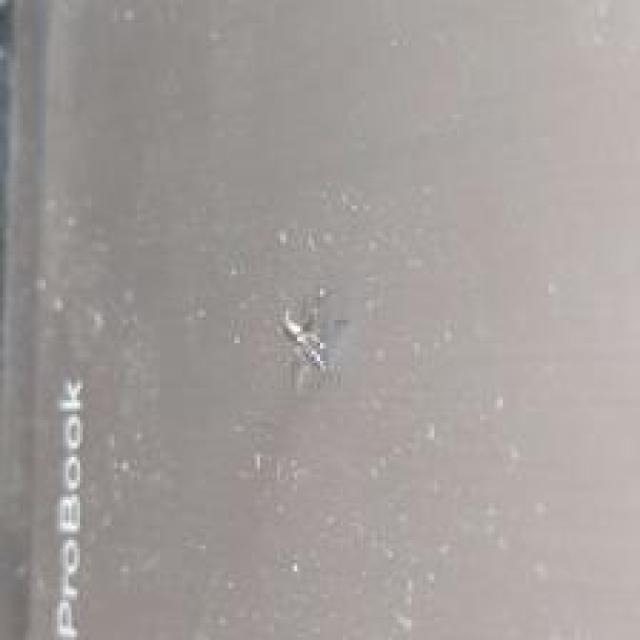Aedes albopictus: (280, 304, 329, 373)
